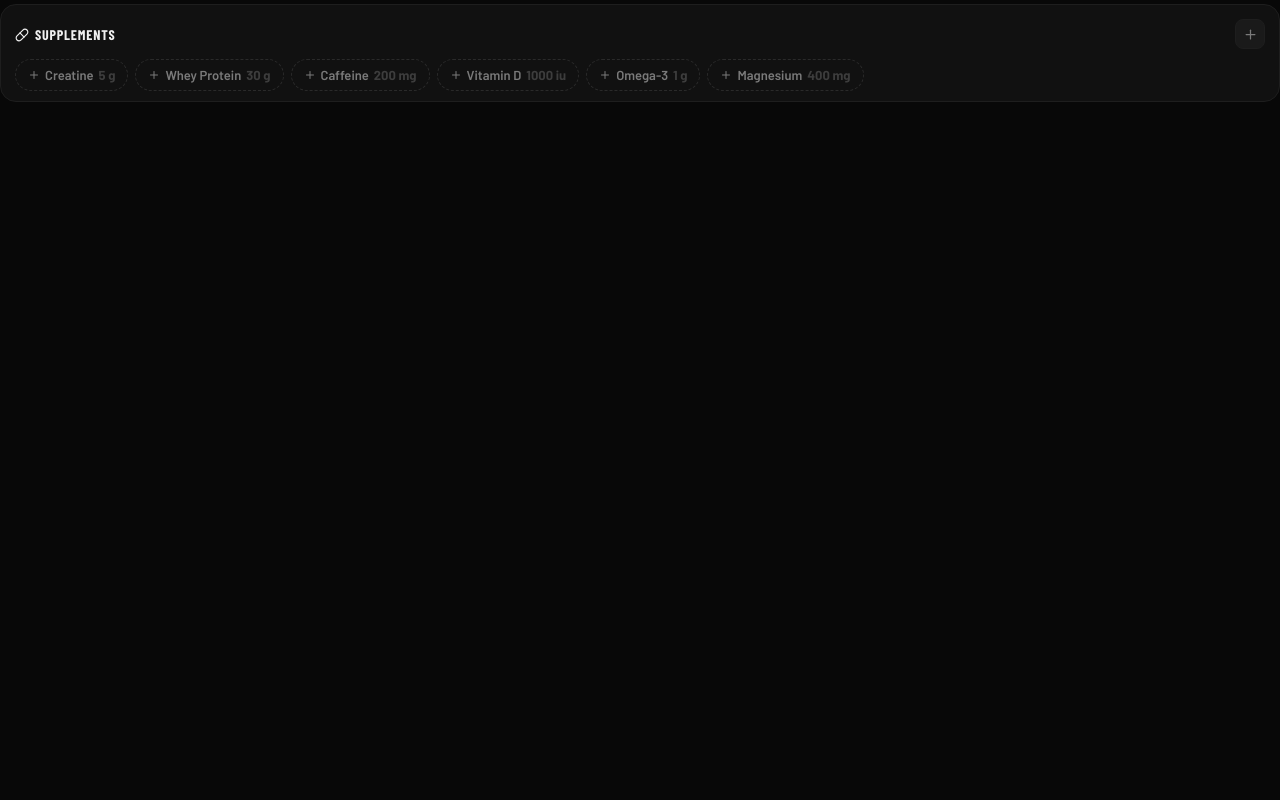
Test: SupplementSection › adds a supplement that is not in the list
Click the button titled "Add supplement": [1250, 34] box [1235,19,1265,49]
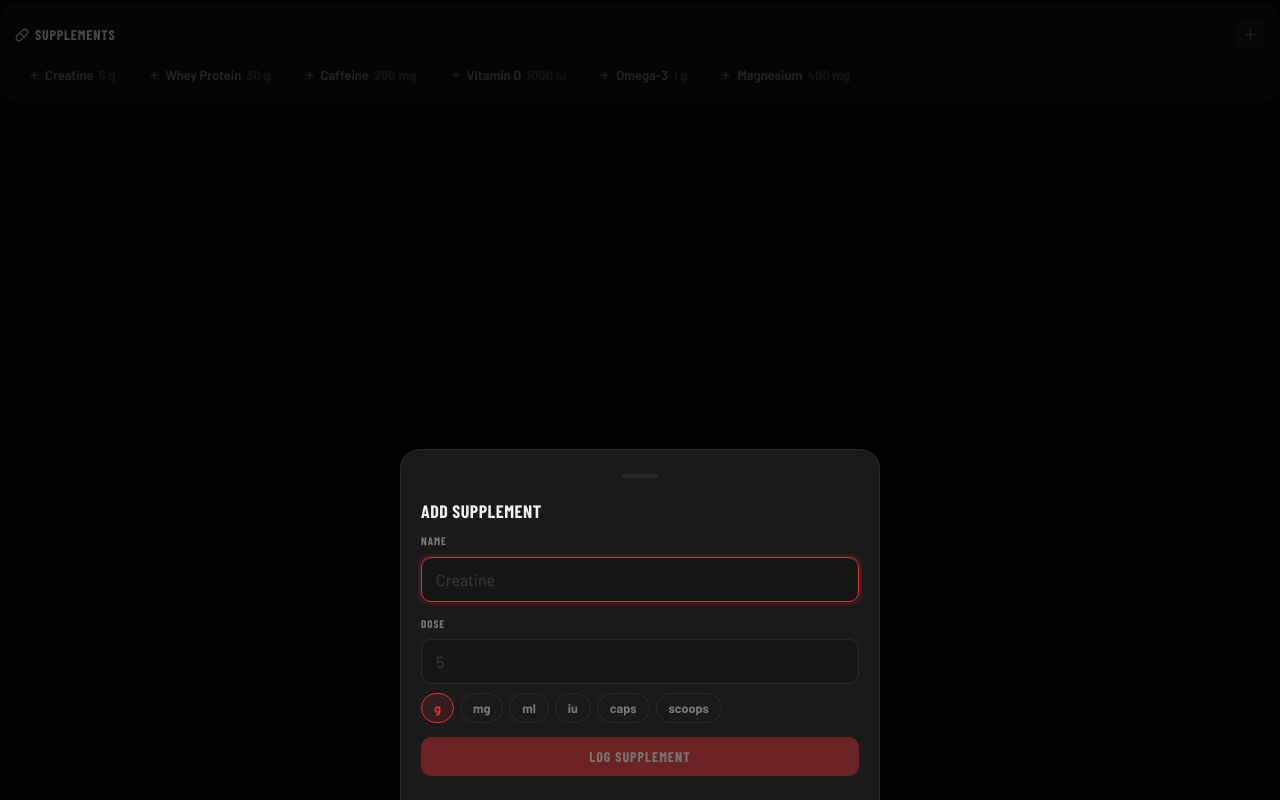
In the field with placeholder "Creatine": [640, 579] box [421,556,859,602], type "Ashwagandha"
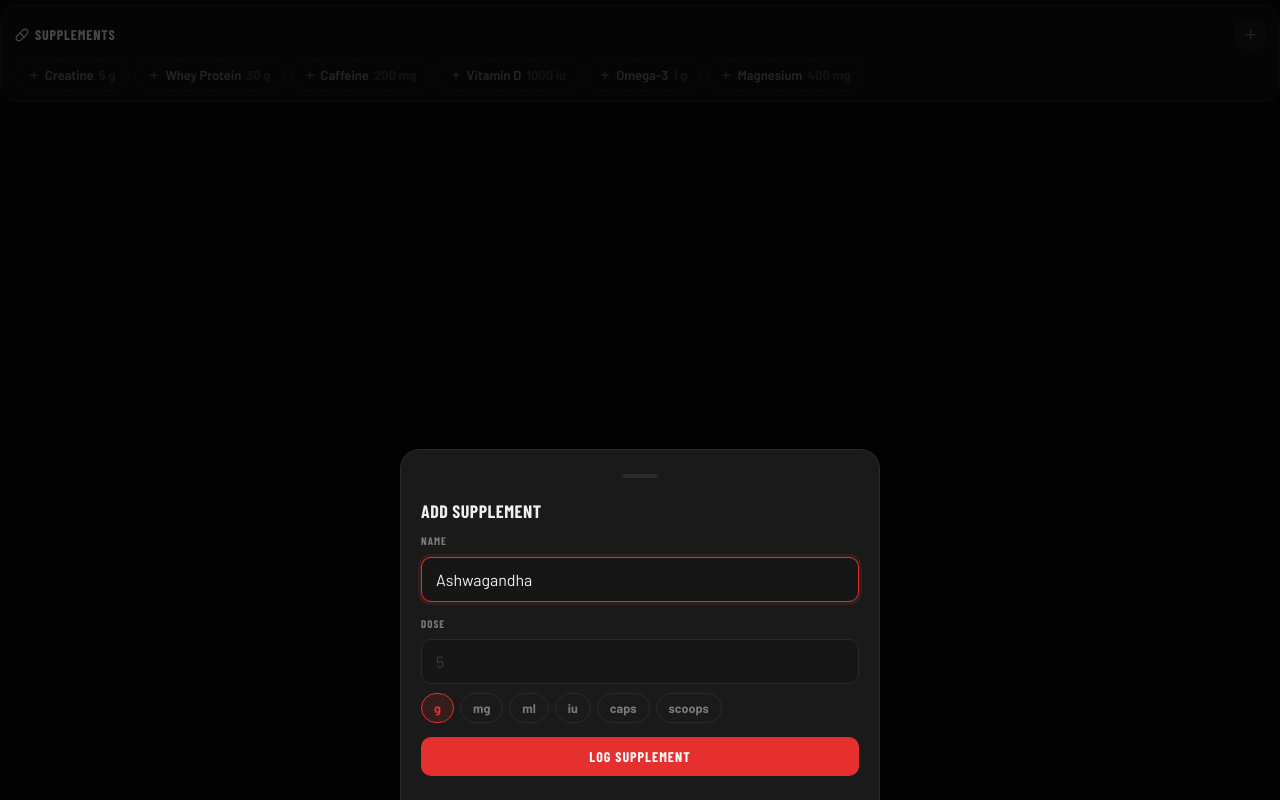
In the number field with placeholder "5": [640, 662] box [421,639,859,684], type "600"
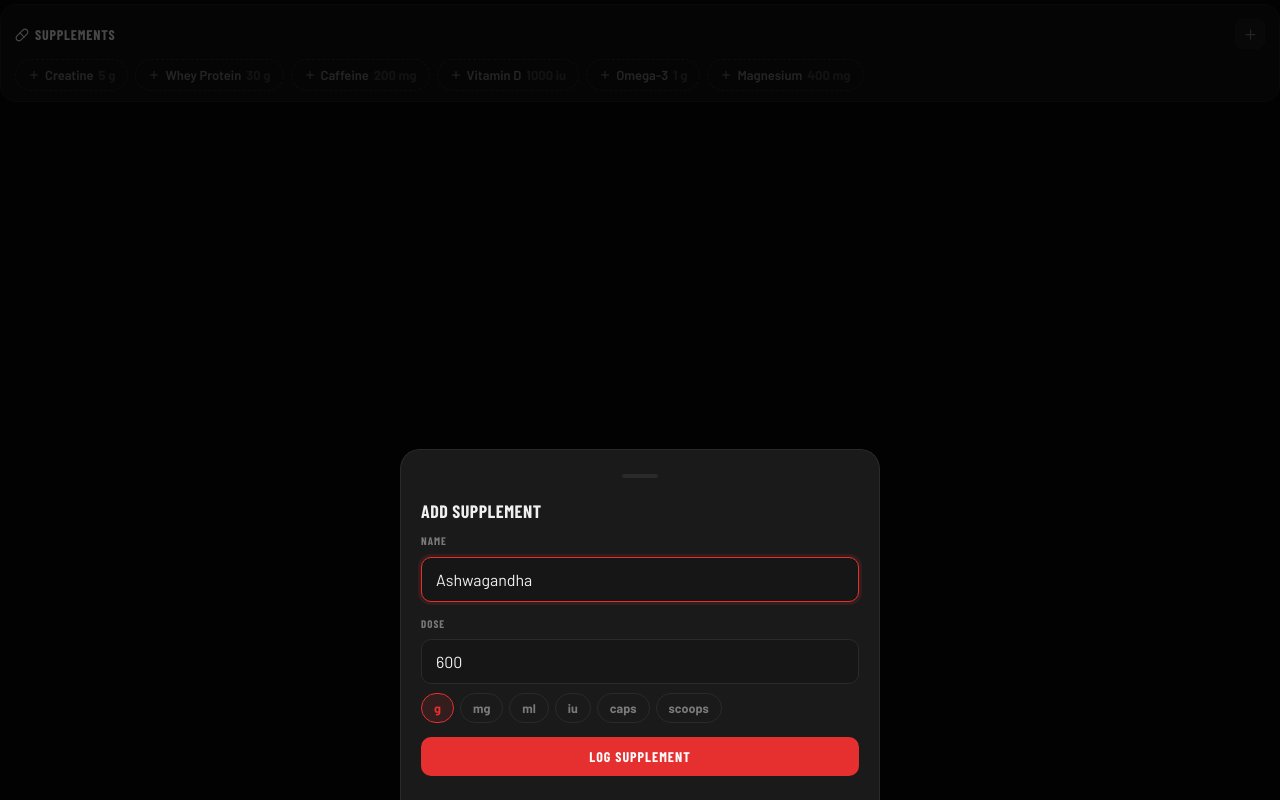
Click the button "mg": [482, 708] box [460,693,503,723]
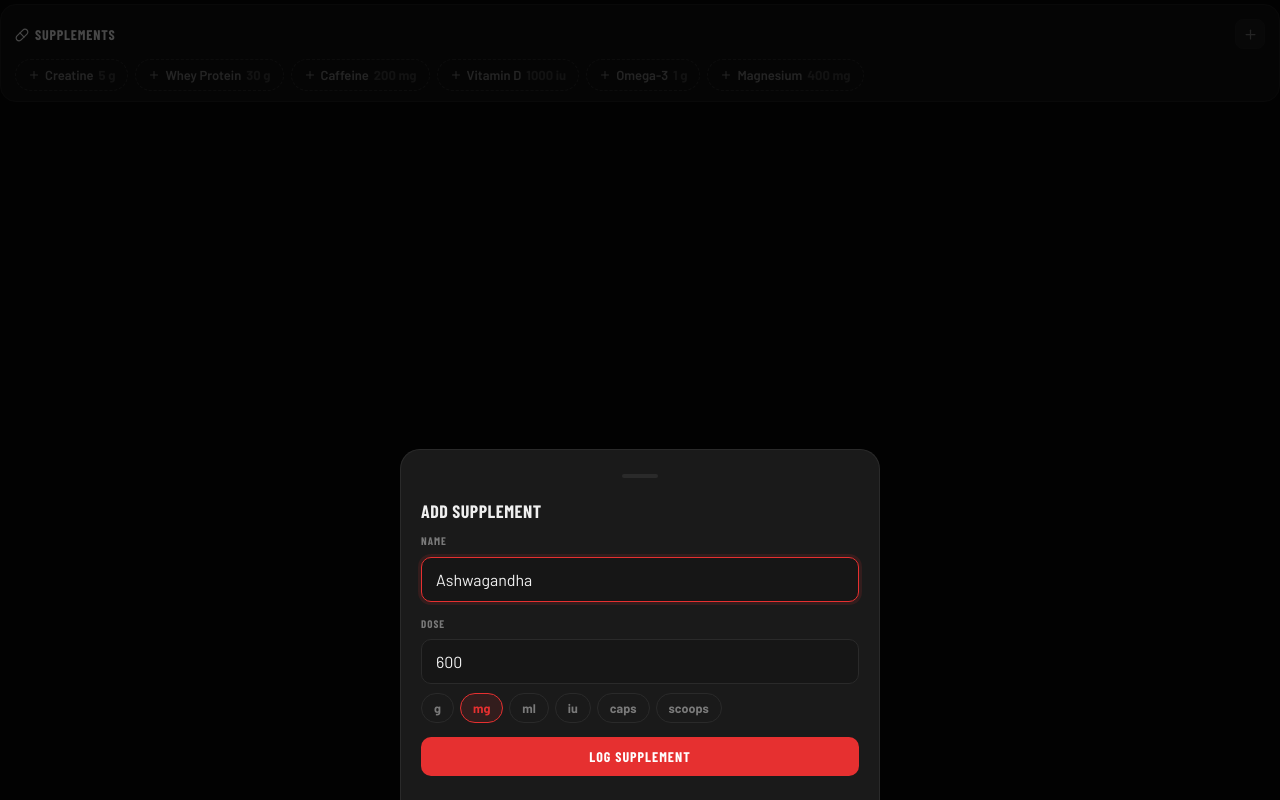
Click the button "Log Supplement": [640, 756] box [421,737,859,776]
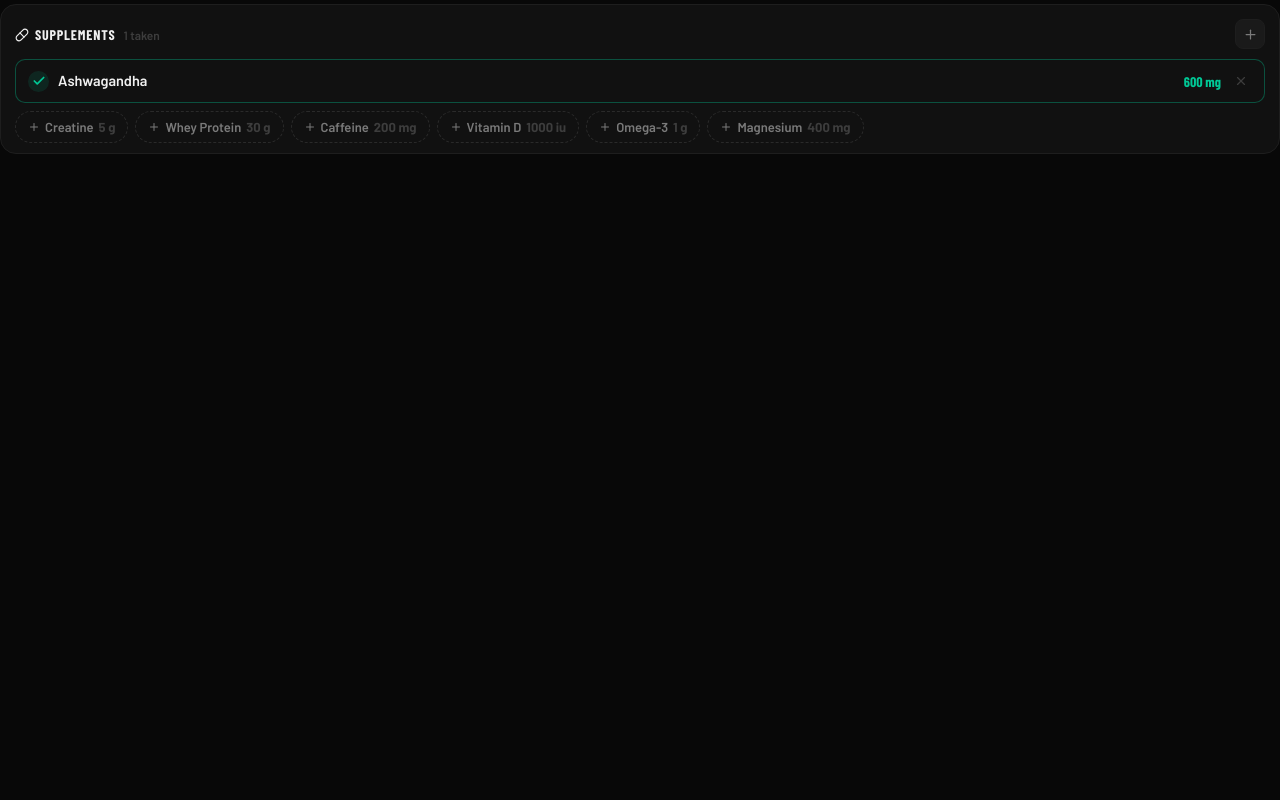
Expected: the element with class "taken" shows "Ashwagandha", [58,71,147,89]
